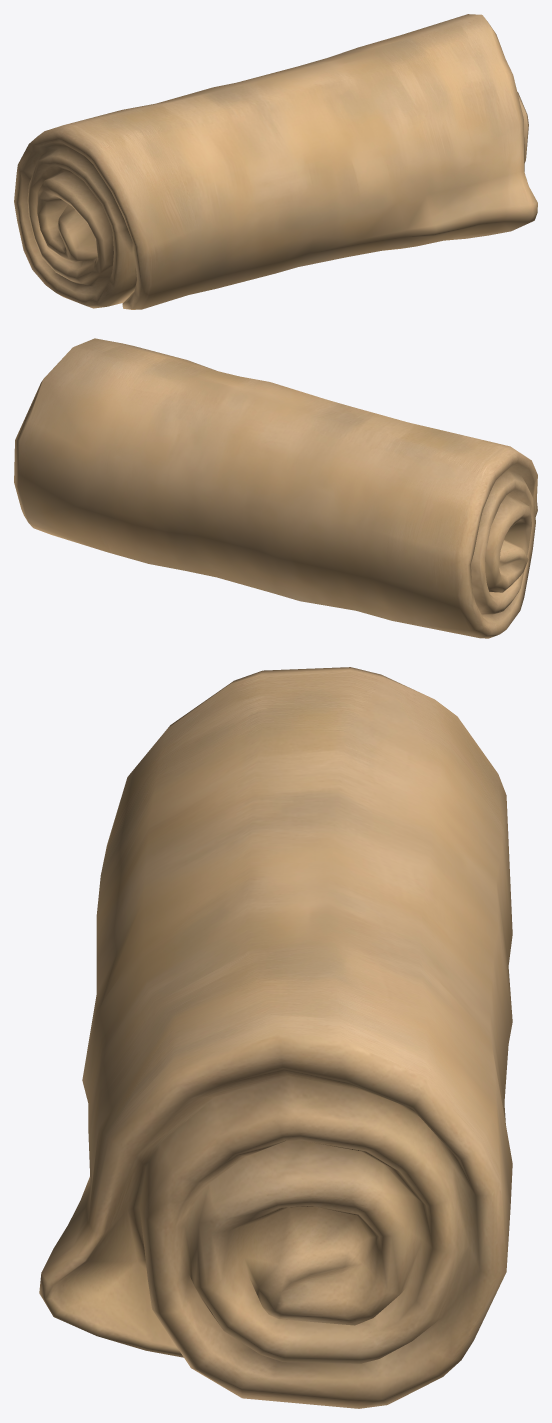
The picture shows the model from 3 angles, top to bottom: view 1: azimuth 30°, elevation 25°; view 2: azimuth 150°, elevation 25°; view 3: azimuth 270°, elevation 25°; orthographic projection. The views are drawn at different scales.
Parts seen in each view (by area): view 1: tripo_node_da5ea7d2-d404-41b0-a204-169a87ed275a; view 2: tripo_node_da5ea7d2-d404-41b0-a204-169a87ed275a; view 3: tripo_node_da5ea7d2-d404-41b0-a204-169a87ed275a.
Part boxes in pixels (box(x1,y1,x2,y2)): tripo_node_da5ea7d2-d404-41b0-a204-169a87ed275a: box(14, 14, 537, 309); tripo_node_da5ea7d2-d404-41b0-a204-169a87ed275a: box(14, 338, 537, 638); tripo_node_da5ea7d2-d404-41b0-a204-169a87ed275a: box(39, 667, 512, 1408).
Size of the model in its own units: 0.998 by 0.3965 by 0.4512.
Materials: 1 (1 with a texture image).
